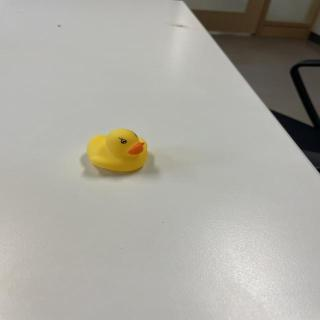duck_regular: (86, 128, 151, 174)
